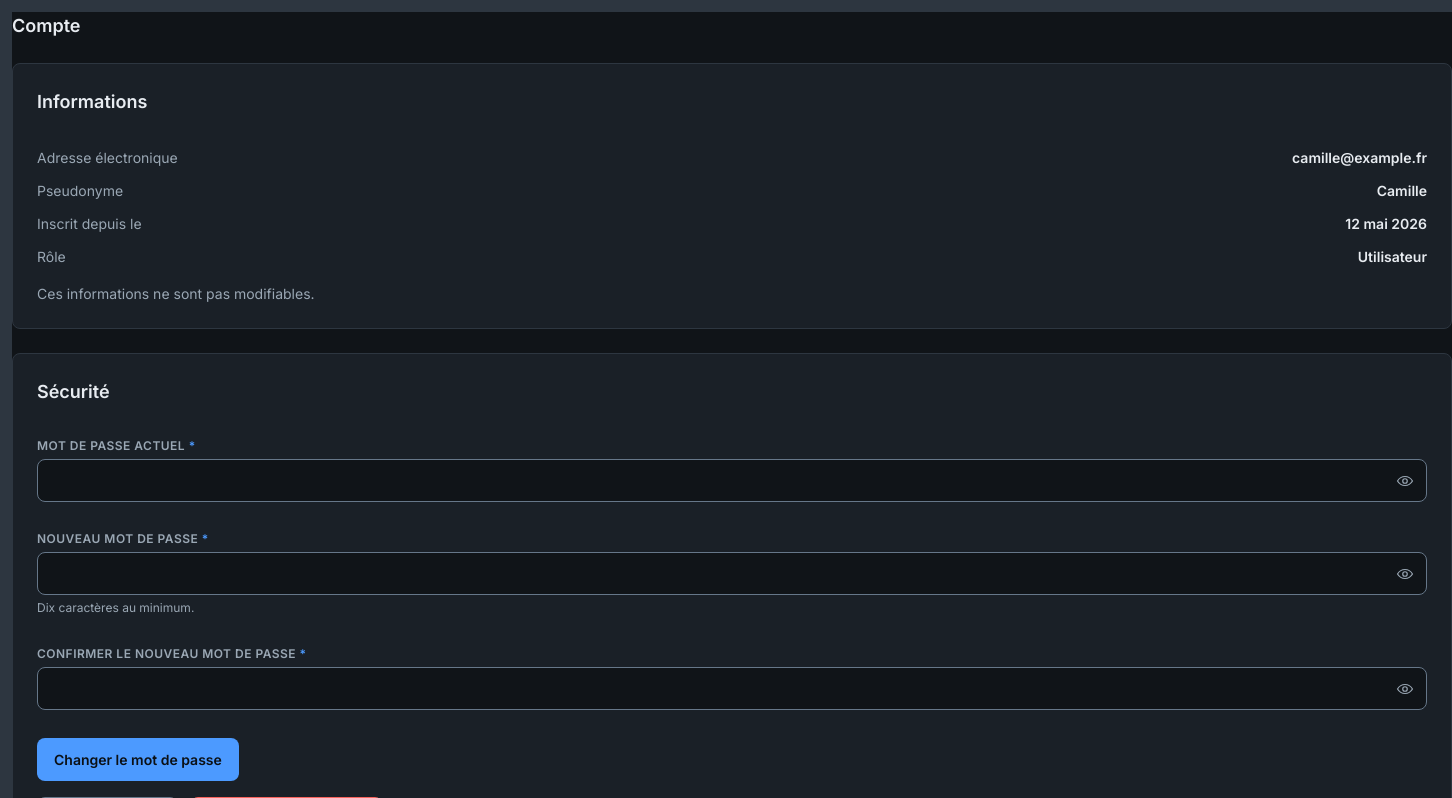
Test: changement de mot de passe › transmet les deux mots de passe et retient le jeton renouvelé
Expected: the heading "Compte" is shown, [12, 12, 80, 39]
Type "ancien-solide" into the password field labelled "Mot de passe actuel *". click: (732, 480)
box: [37, 459, 1427, 502]
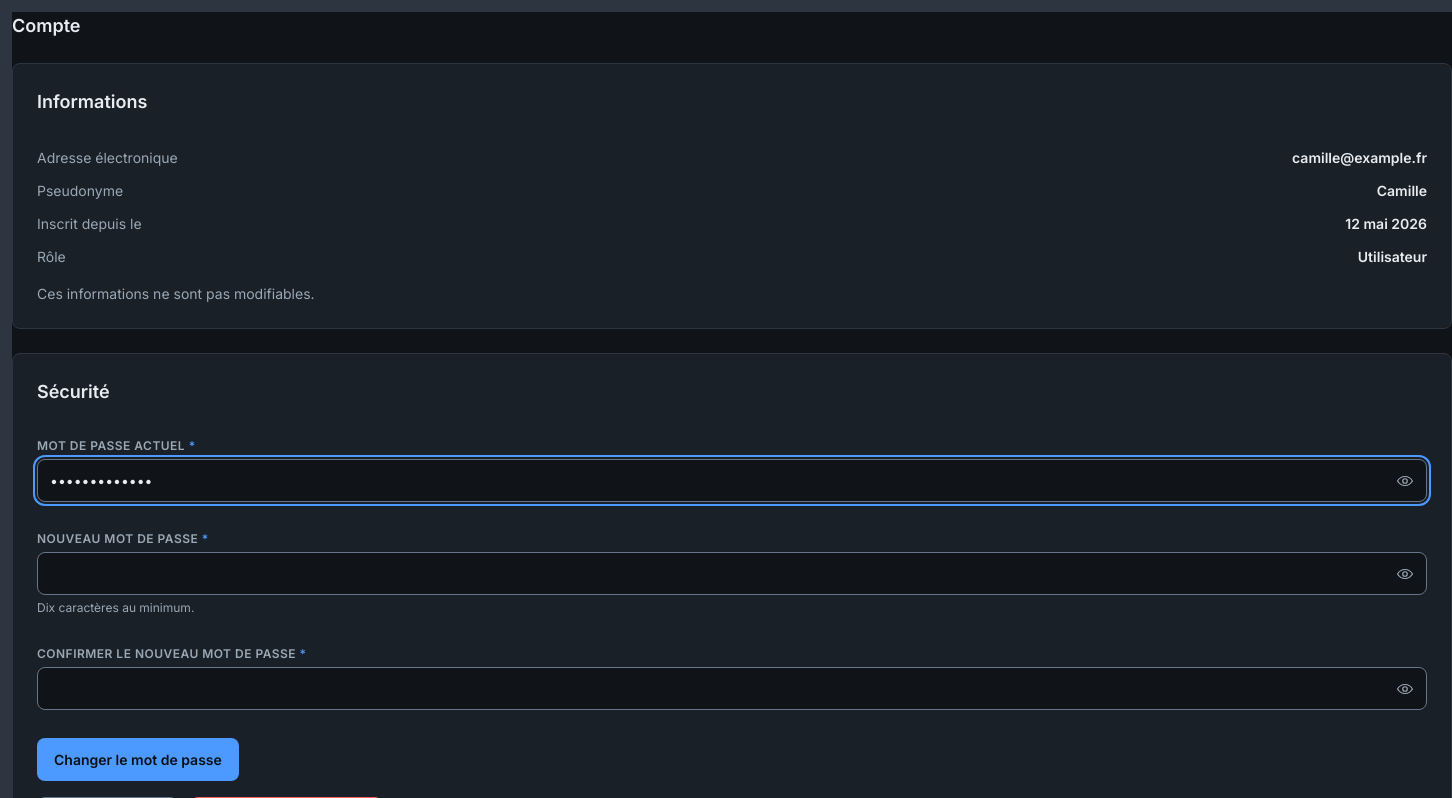
Type "nouveau-solide" into the password field labelled "Nouveau mot de passe *". click: (732, 574)
box: [37, 552, 1427, 595]
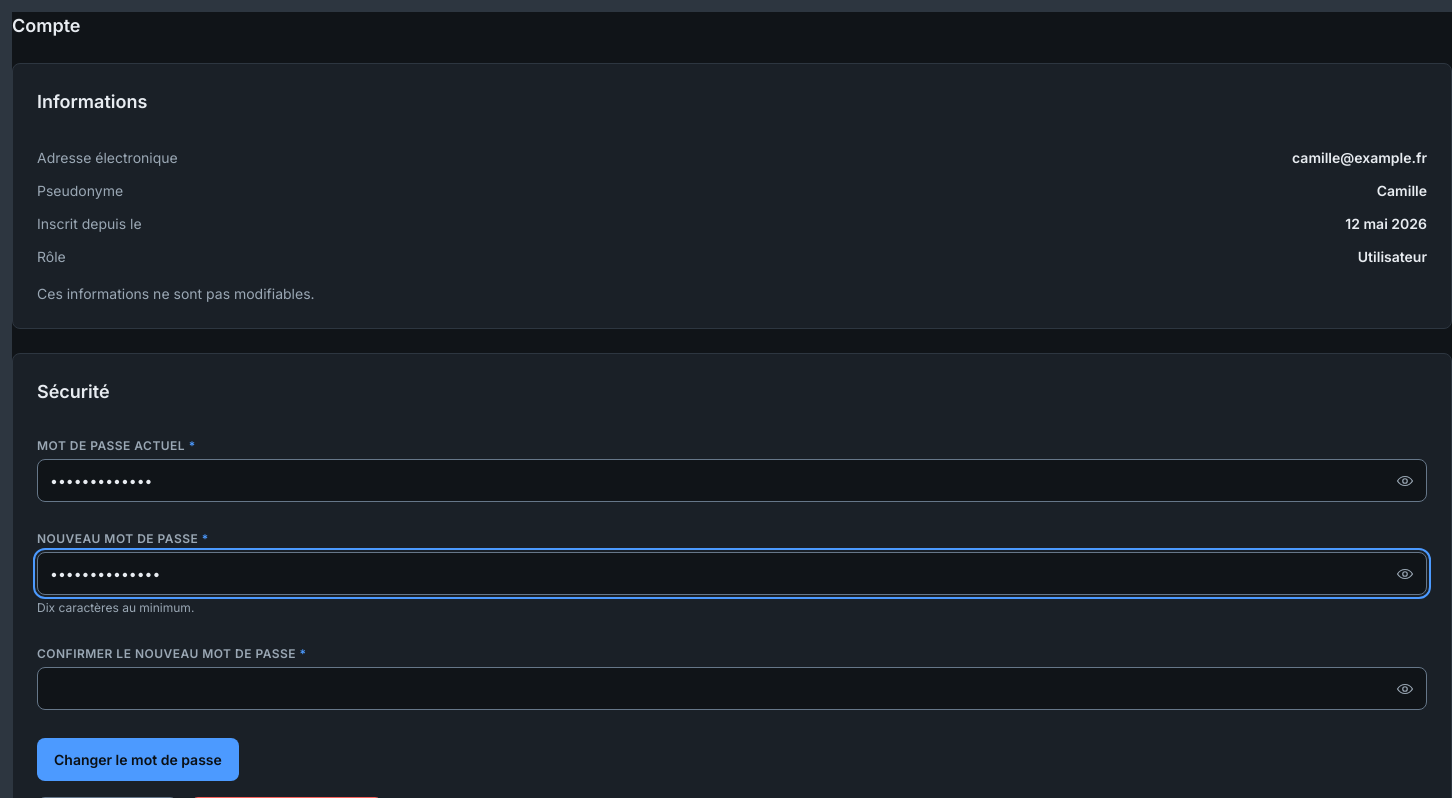
Type "nouveau-solide" into the password field labelled "Confirmer le nouveau mot de passe *". click: (732, 688)
box: [37, 667, 1427, 710]
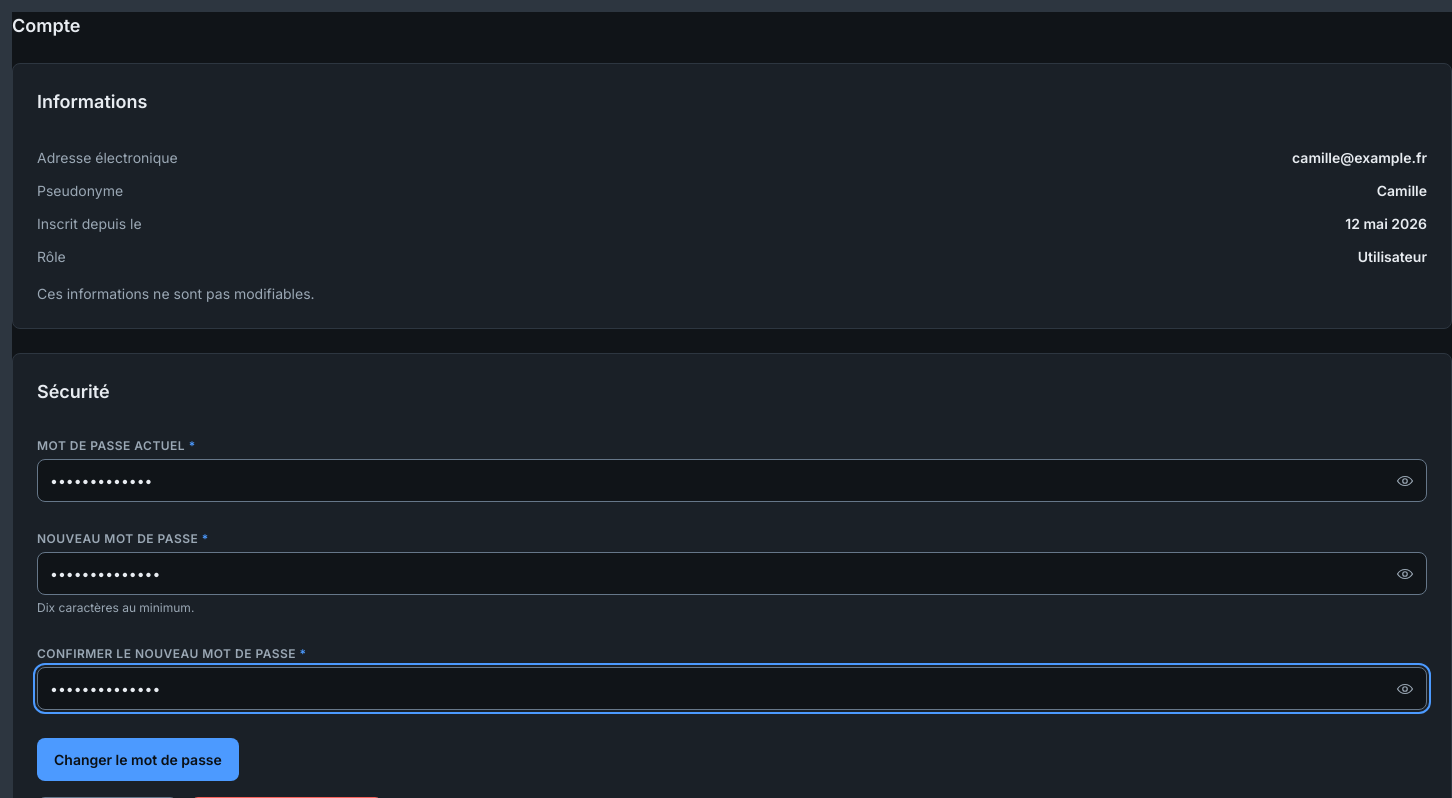
Click the button "Changer le mot de passe". click: (138, 760)
box: [37, 738, 239, 781]
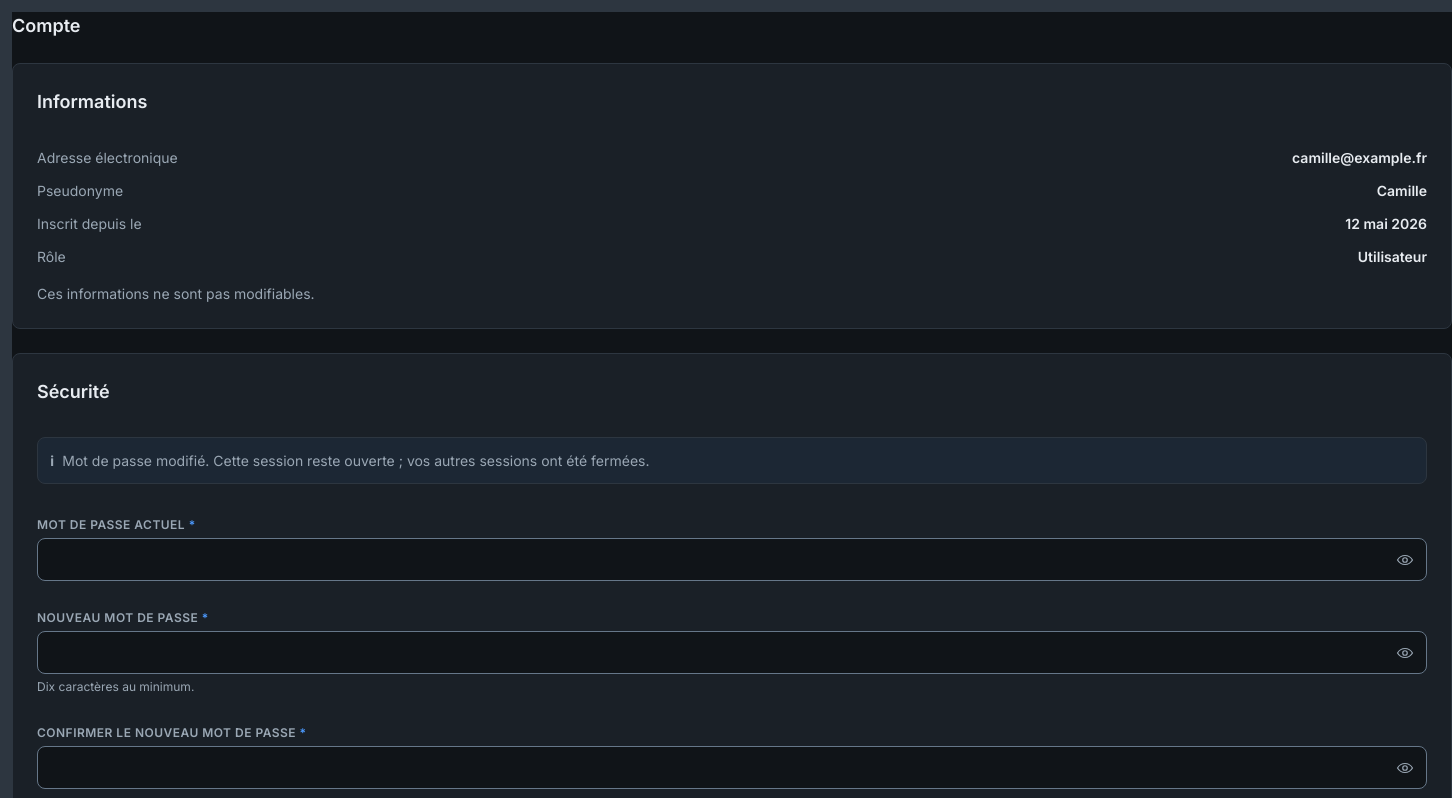
Expected: the text "autres sessions ont été fermées" is shown, [62, 452, 650, 469]
